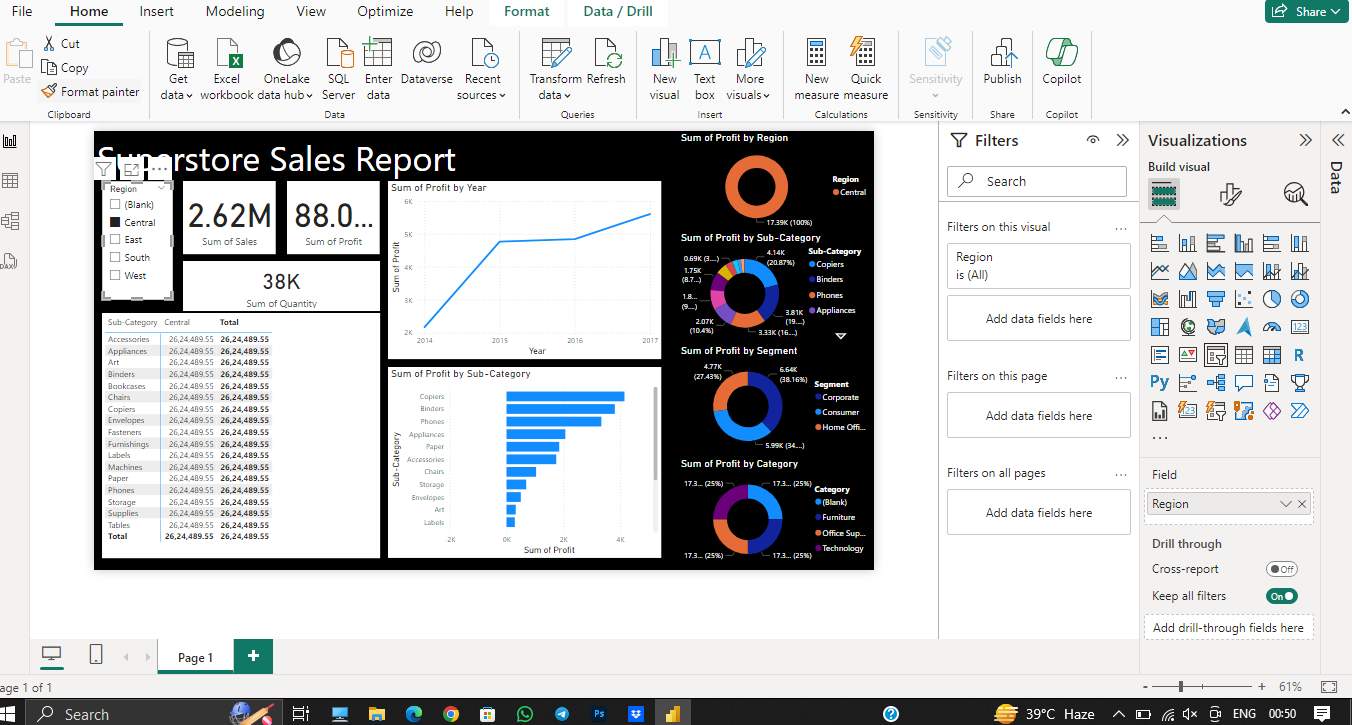

The page's visual inventory and layout, read from the dashboard file:
{"tool":"powerbi","page":{"name":"Superstore Sales","canvas":[1280,720],"ordinal":0},"visuals":[{"type":"textbox","box":[0,0,854.1,137.7],"z":0},{"type":"donutChart","fields":{"Category":["Orders.Category"],"Y":["Sum(Orders (3).Profit)"]},"box":[957.4,534.4,323,185.2],"z":1000},{"type":"donutChart","fields":{"Category":["Orders (3).Segment"],"Y":["Sum(Orders (3).Profit)"]},"box":[957.4,349.2,323,185.2],"z":2000},{"type":"donutChart","fields":{"Category":["Orders (3).Sub-Category"],"Y":["Sum(Orders (3).Profit)"]},"box":[957.4,163.9,323,185.2],"z":3000},{"type":"donutChart","fields":{"Category":["Orders (3).Region"],"Y":["Sum(Orders (3).Profit)"]},"box":[957.4,0,323,163.9],"z":4000},{"type":"barChart","fields":{"Category":["Orders (3).Sub-Category"],"Y":["Sum(Orders (3).Profit)"]},"box":[482,386.9,447.5,313.1],"z":5000},{"type":"lineChart","fields":{"Category":["Orders (3).Order Date.Variation.Date Hierarchy.Year","Orders (3).Order Date.Variation.Date Hierarchy.Quarter"],"Y":["Sum(Orders (3).Profit)"]},"box":[482,82,447.5,291.8],"z":6000},{"type":"slicer","fields":{"Values":["Orders (3).Region"]},"box":[13.1,82,116.4,195.1],"z":7000},{"type":"pivotTable","fields":{"Rows":["Orders (3).Sub-Category"],"Columns":["Orders (3).Region"],"Values":["Sum(Orders (4).Sales)"]},"box":[13.1,298.4,455.7,401.6],"z":8000},{"type":"card","fields":{"Values":["Sum(Orders (4).Sales)"]},"box":[145.9,82,152.5,119.7],"z":9000},{"type":"card","fields":{"Values":["Sum(Orders (4).Profit)"]},"box":[316.4,82,152.5,119.7],"z":10000},{"type":"card","fields":{"Values":["Sum(Orders (4).Quantity)"]},"box":[145.9,213.1,323,82],"z":11000}]}

Visuals, with their boxes on the page's 1280x720 design canvas (x1, y1, x2, y2). These are canvas units, not pixel positions in the 1352x725 screenshot, which may show the page scaled, cropped or inside an application window:
textbox: bbox(0, 0, 854, 138)
donutChart - Orders.Category x Sum(Orders (3).Profit): bbox(957, 534, 1280, 720)
donutChart - Orders (3).Segment x Sum(Orders (3).Profit): bbox(957, 349, 1280, 534)
donutChart - Orders (3).Sub-Category x Sum(Orders (3).Profit): bbox(957, 164, 1280, 349)
donutChart - Orders (3).Region x Sum(Orders (3).Profit): bbox(957, 0, 1280, 164)
barChart - Orders (3).Sub-Category x Sum(Orders (3).Profit): bbox(482, 387, 930, 700)
lineChart - Orders (3).Order Date.Variation.Date Hierarchy.Year x Orders (3).Order Date.Variation.Date Hierarchy.Quarter: bbox(482, 82, 930, 374)
slicer - Orders (3).Region: bbox(13, 82, 130, 277)
pivotTable - Orders (3).Sub-Category x Orders (3).Region: bbox(13, 298, 469, 700)
card - Sum(Orders (4).Sales): bbox(146, 82, 298, 202)
card - Sum(Orders (4).Profit): bbox(316, 82, 469, 202)
card - Sum(Orders (4).Quantity): bbox(146, 213, 469, 295)
